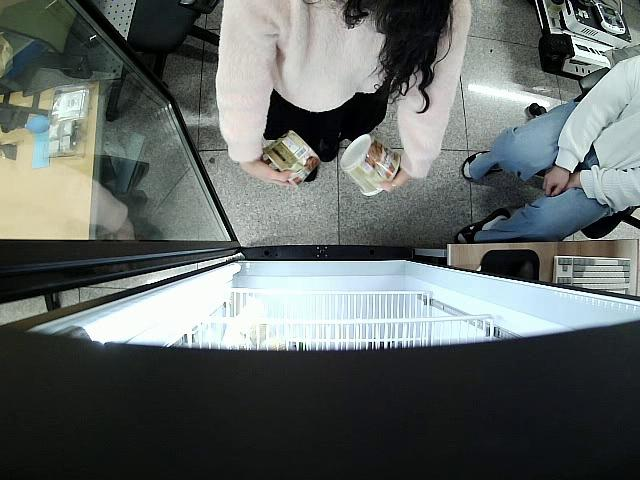00_hand: (251, 162, 299, 187), (377, 165, 413, 196)
03_chapagetti_L: (339, 135, 401, 195), (263, 130, 321, 187)
